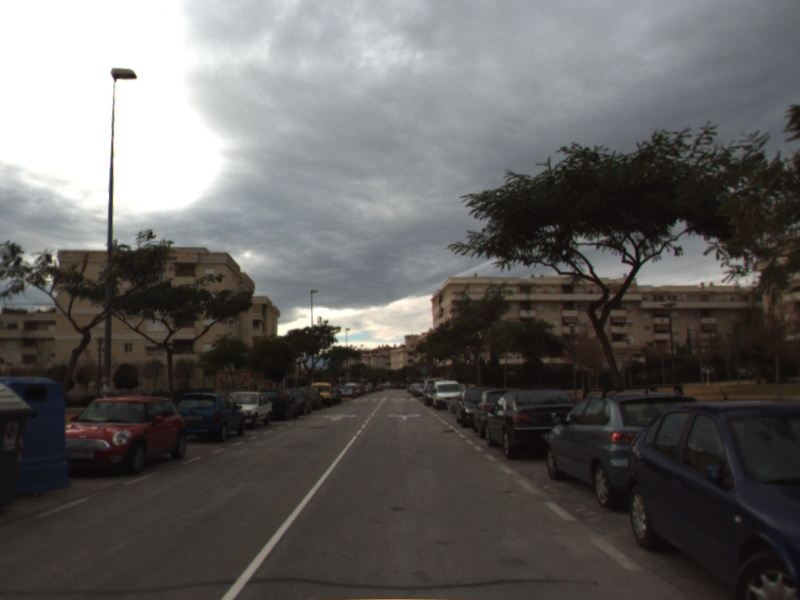LEFT_RIGHT: (386, 411, 424, 422)
